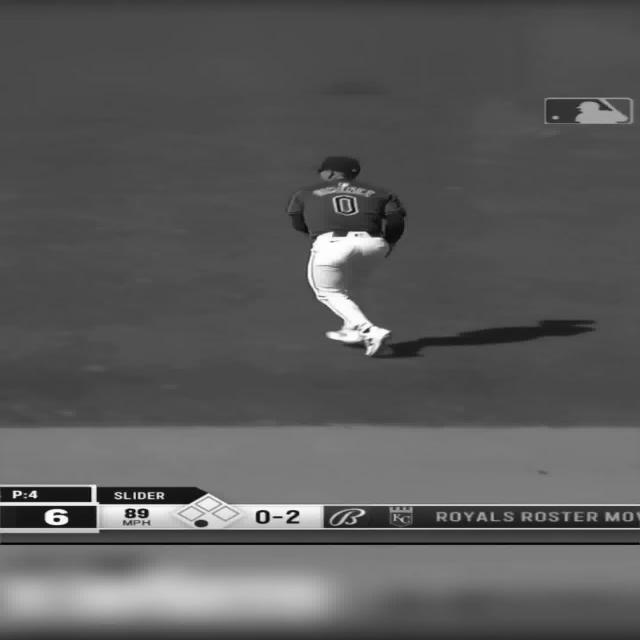shoe: (327, 326, 391, 350), (362, 326, 391, 356)
